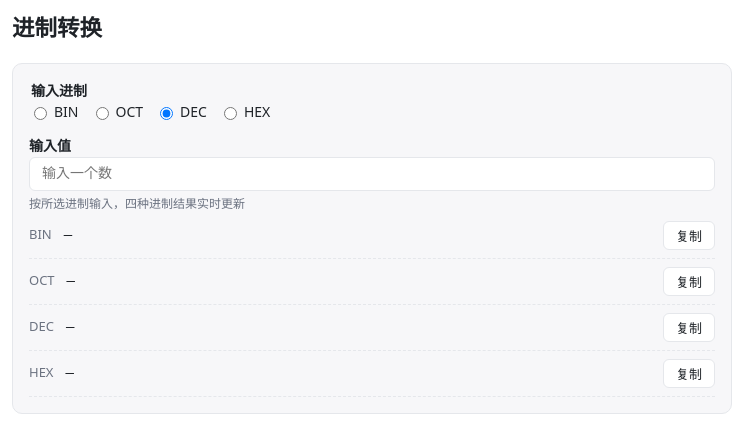
Scenario: AC-2 默认 DEC 实时联动 › AC-2: 默认输入进制为 DEC，输入 255 → BIN/OCT/HEX 正确且实时更新
Check: the radio button labelled "DEC" is checked, box 160,107 -> 173,120
In the field labelled "输入值": (372, 174) 29,157 -> 715,191, type "25"
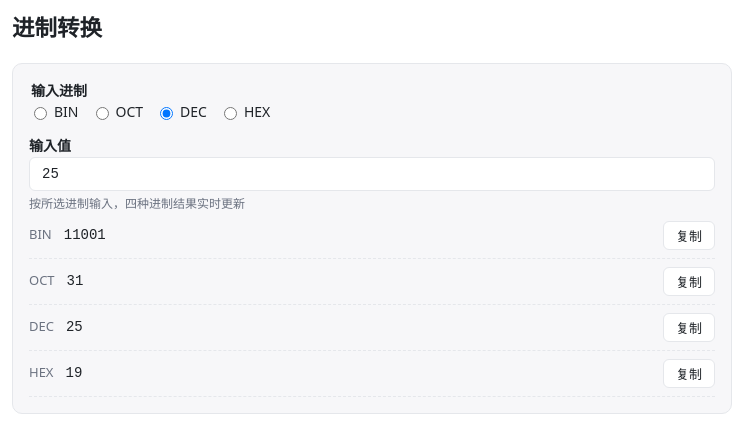
Check: the text "11001" is shown, box 64,227 -> 106,243
Replace the text in the field labelled "输入值" with "255": (372, 174) 29,157 -> 715,191
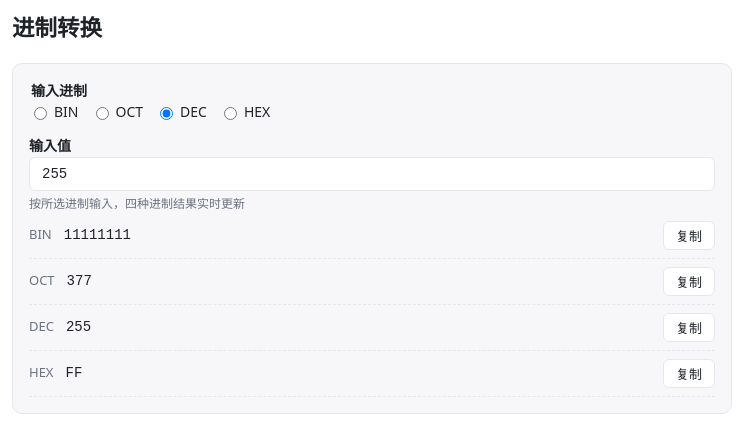
Check: the text "11111111" is shown, box 64,227 -> 131,243
Check: the text "377" is shown, box 67,273 -> 92,289
Check: the text "FF" is shown, box 66,365 -> 82,381
